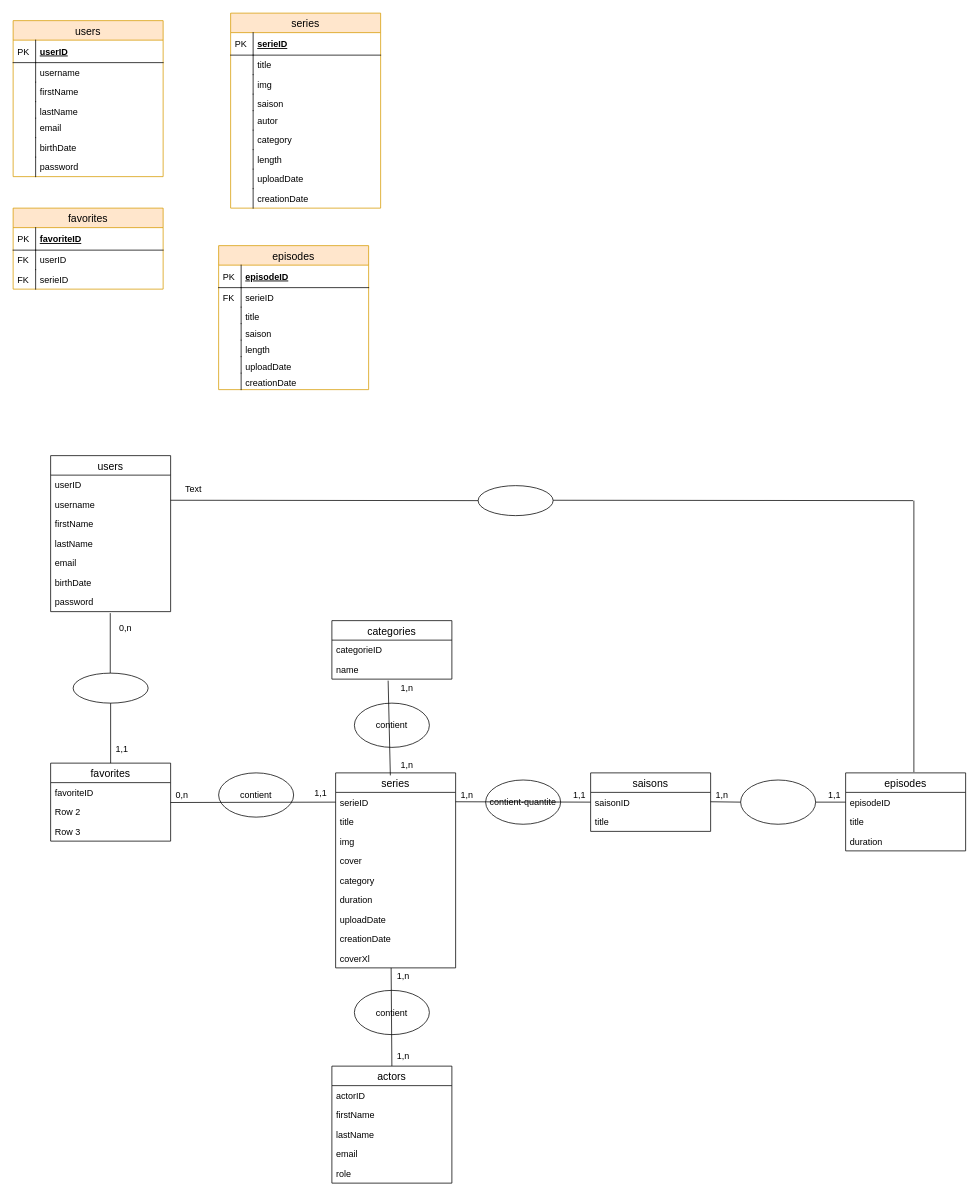
Some shapes in this 979 by 1199 pixel diagram are drawn without their labels. Here are the shapes that lost their labels. From the top down, the centre of each, then its label:
At [515,500]: "listen -listening time".
At [110,687]: "create".
At [778,801]: "contient- quantite".
